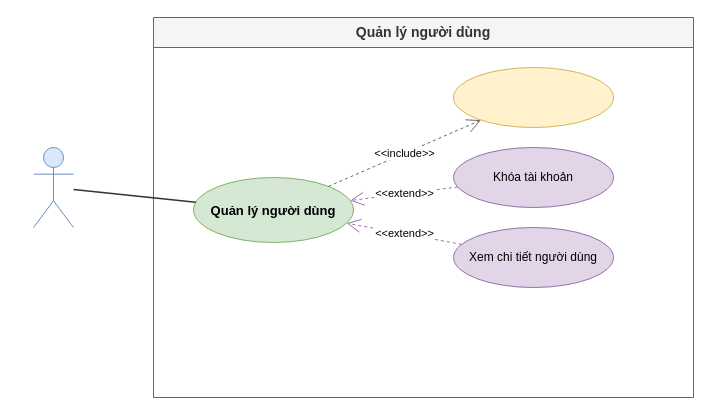
Image size: 711x415. Some labels were removed from this diagram. Here are the shapes that lost their labels. From the top down, the box of each, then its label:
(452, 66, 614, 128): Xem danh sách người dùng
(32, 146, 74, 228): Quản trị viên
